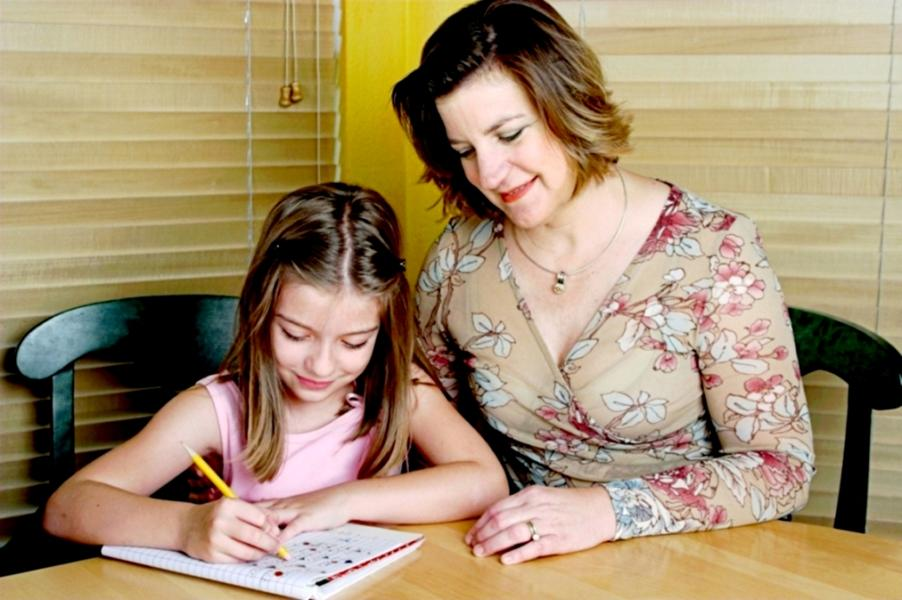person: (45, 182, 513, 570)
